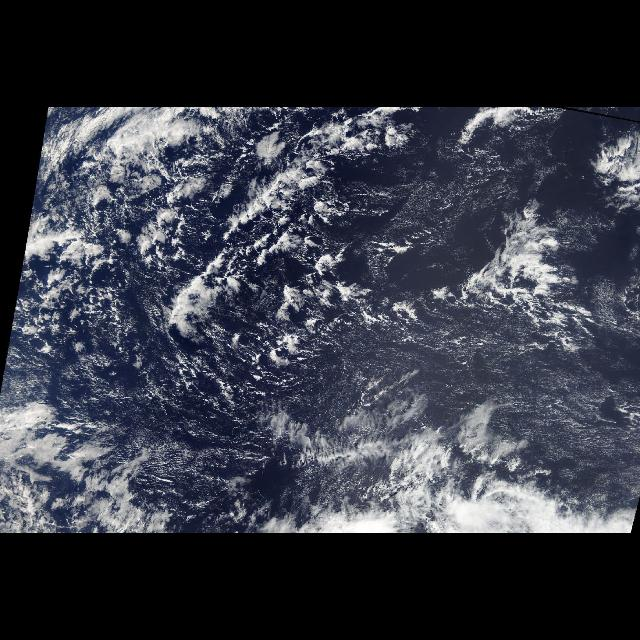Gravel: (64, 144, 438, 388)
Sugar: (11, 150, 638, 532)
